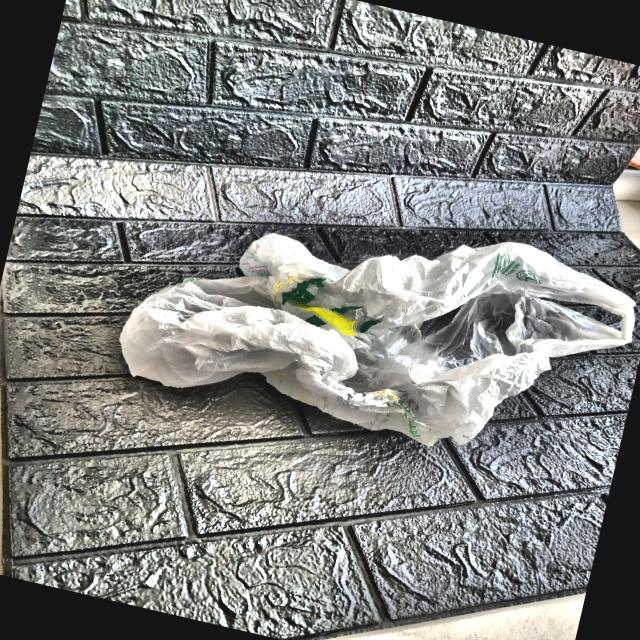plastic bag: (106, 156, 640, 489)
